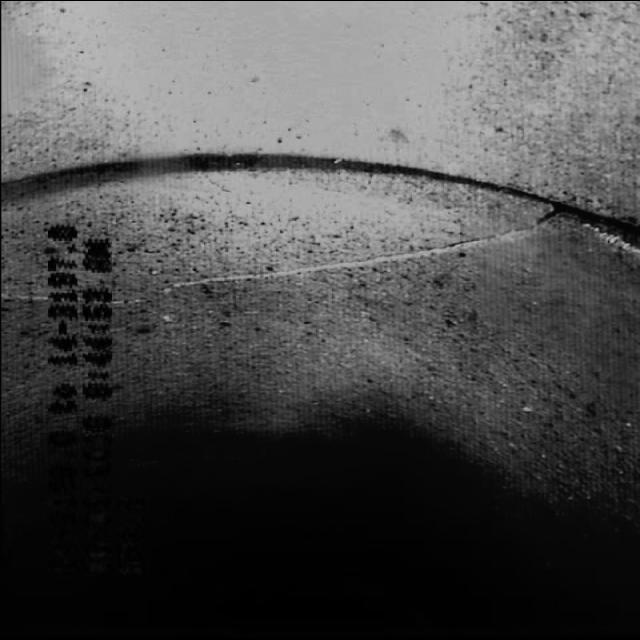Crack: (173, 219, 564, 298)
